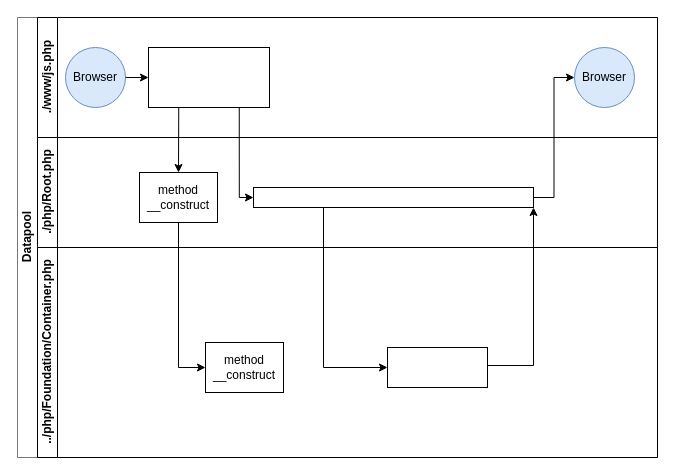
Some shapes in this 675 by 475 pixel diagram are drawn without their labels. Here are the shapes that lost their labels. From the top down, the centre of each, then its label:
At (209,77): "Creates instance of Root".
At (393,197): "method run".
At (437,367): "method jsCall".
